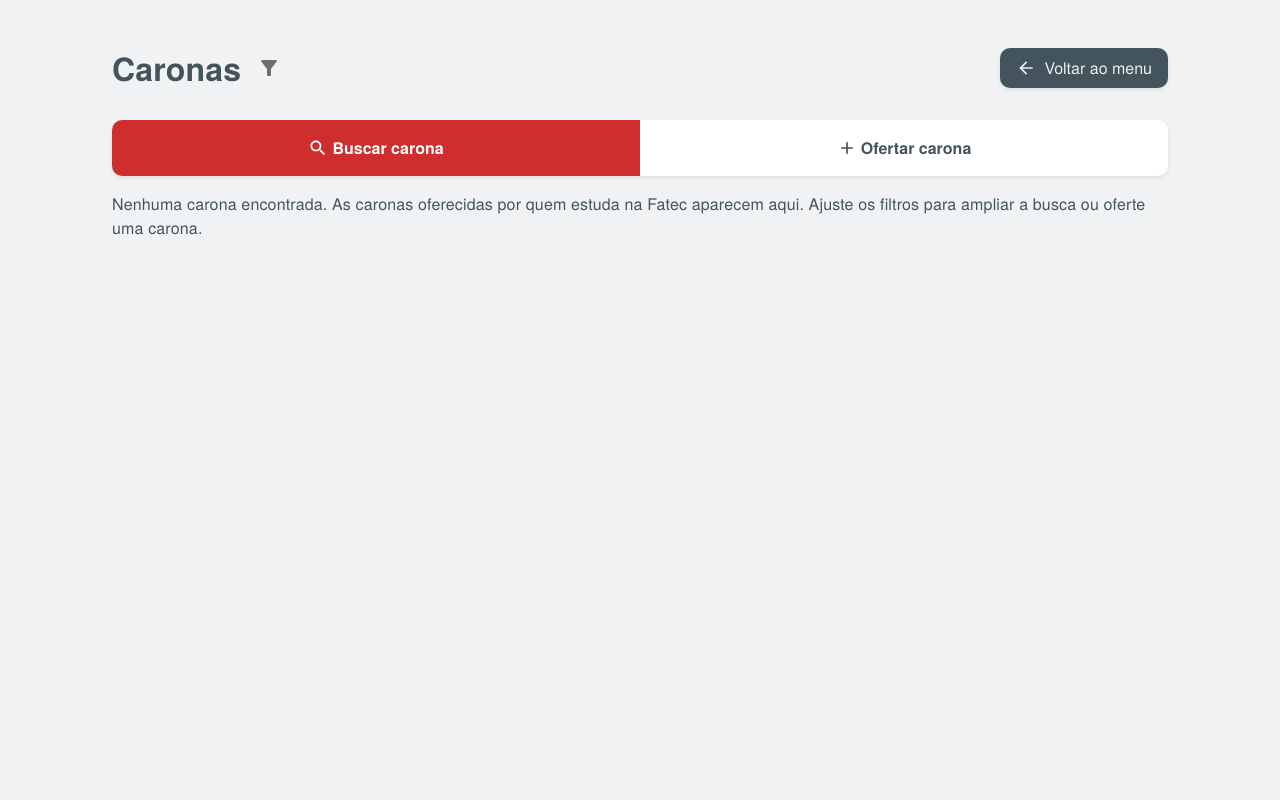
Test: Rides › should open the offer dialog from the tab, without leaving the route
Click the tab "Ofertar carona": (904, 148) x1=640 y1=120 x2=1168 y2=176
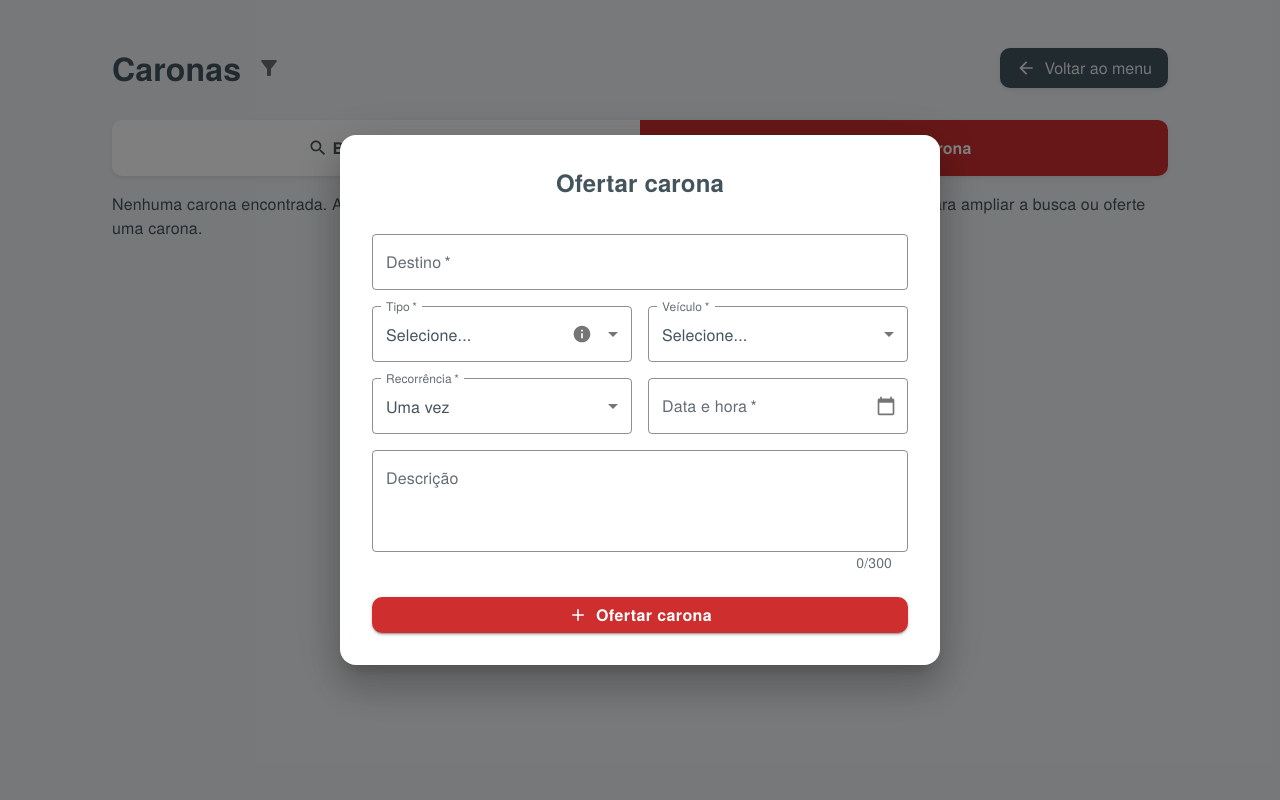
Check: the heading "Ofertar carona" is shown, box x1=556 y1=165 x2=724 y2=199
